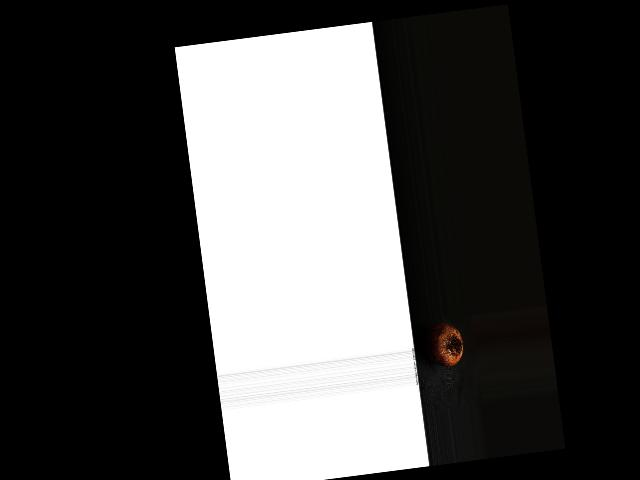beet: (420, 318, 465, 368)
